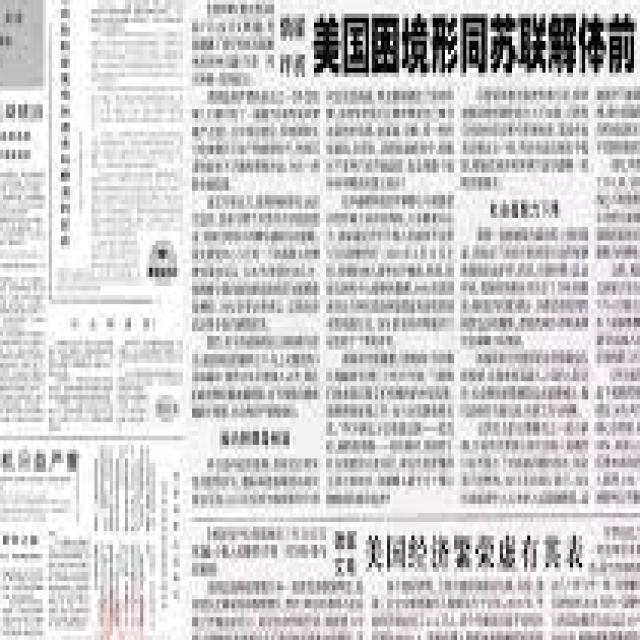organic: (18, 19, 609, 606)
